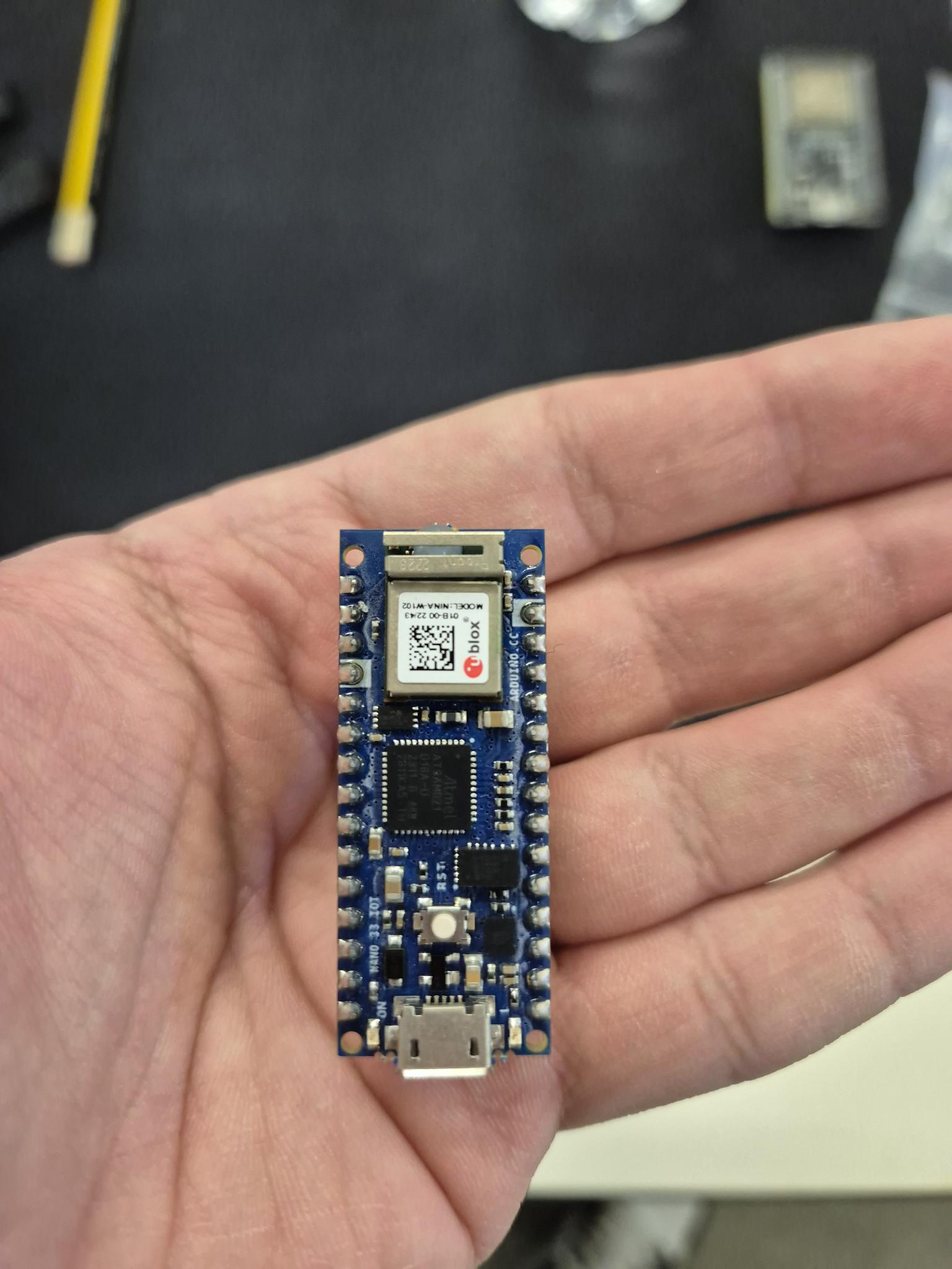arduino-nano-iot-33: (340, 523, 551, 1060)
